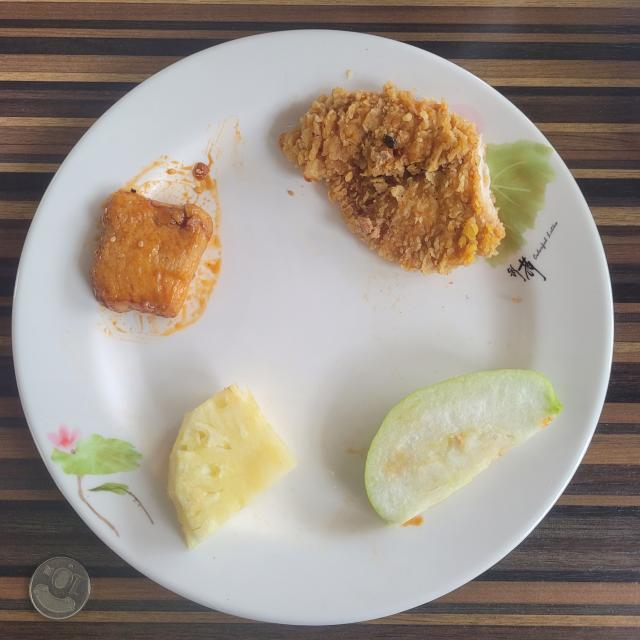coin: (29, 556, 91, 620)
creamy tofu: (92, 190, 212, 318)
fried chicken cutlet: (280, 82, 504, 274)
guava -sliced-: (365, 370, 562, 525)
pineapple: (168, 384, 298, 549)
